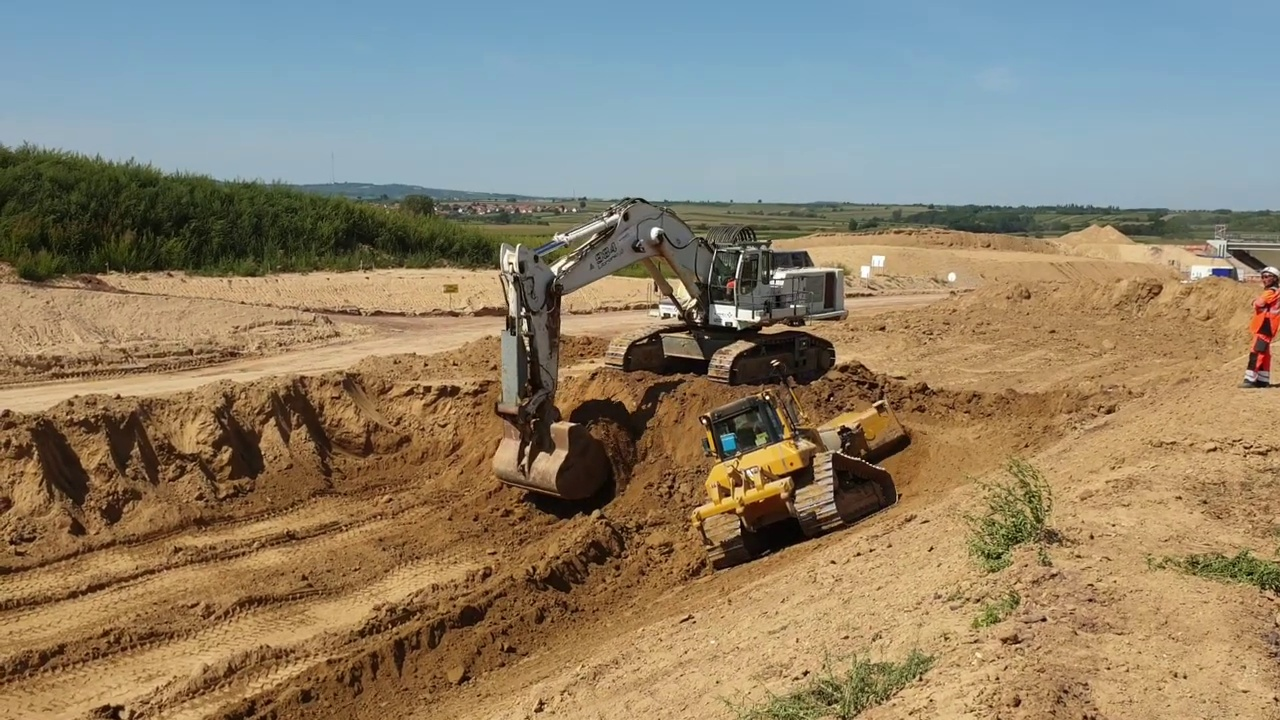bulldozer: (687, 358, 914, 574)
excavator: (488, 192, 853, 510)
worker: (1242, 261, 1280, 387)
